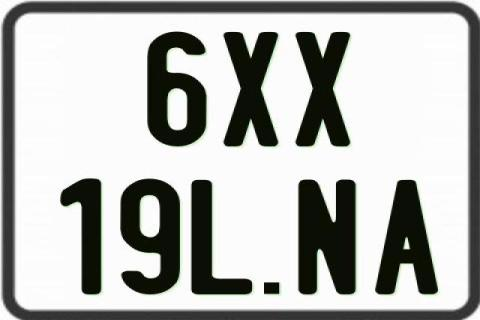0: (144, 29, 209, 149), (117, 178, 183, 294), (60, 177, 106, 293)
A: (372, 179, 435, 293)
L: (188, 179, 254, 296)
N: (297, 178, 358, 294)
X: (296, 30, 356, 150), (223, 30, 284, 148)
